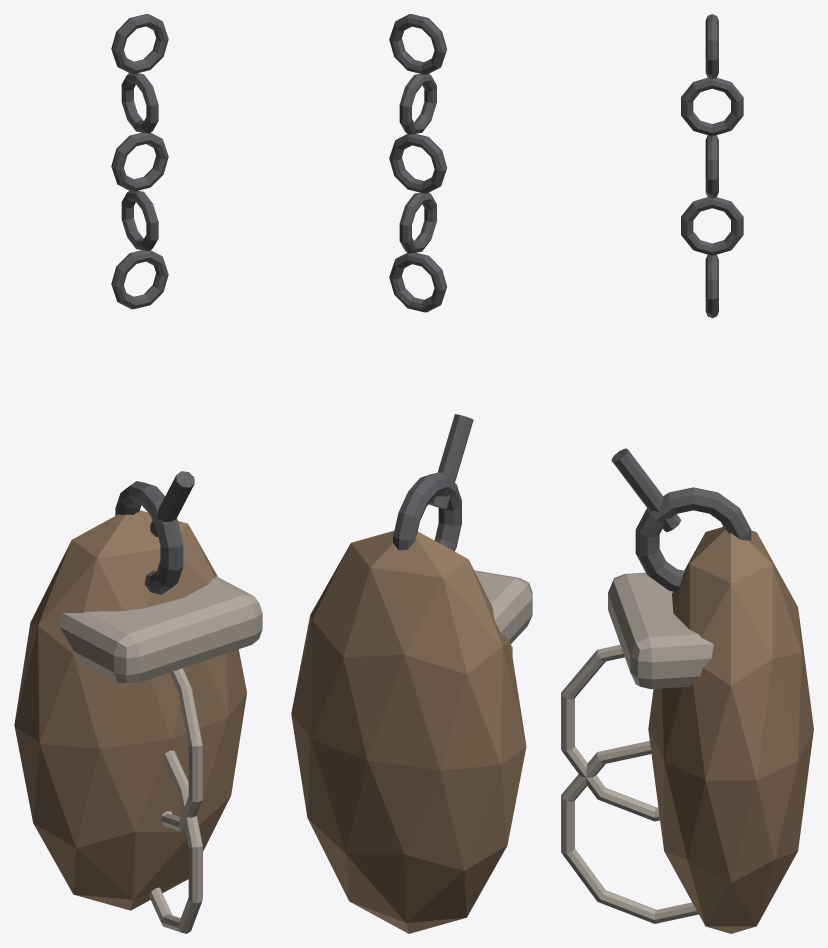
3 views of the same model, side by side, from view 1: azimuth 30°, elevation 25°; view 2: azimuth 150°, elevation 25°; view 3: azimuth 270°, elevation 25° (orthographic).
Parts seen in each view (by area): view 1: meatHook; view 2: meatHook; view 3: meatHook.
Boxes of the visible parts, box(x1,y1,x2,y2) form: meatHook: box(14, 14, 262, 933); meatHook: box(291, 14, 532, 933); meatHook: box(561, 14, 813, 933).
Bounding box in the file's own units: 0.2587 × 1.07 × 0.2687.
